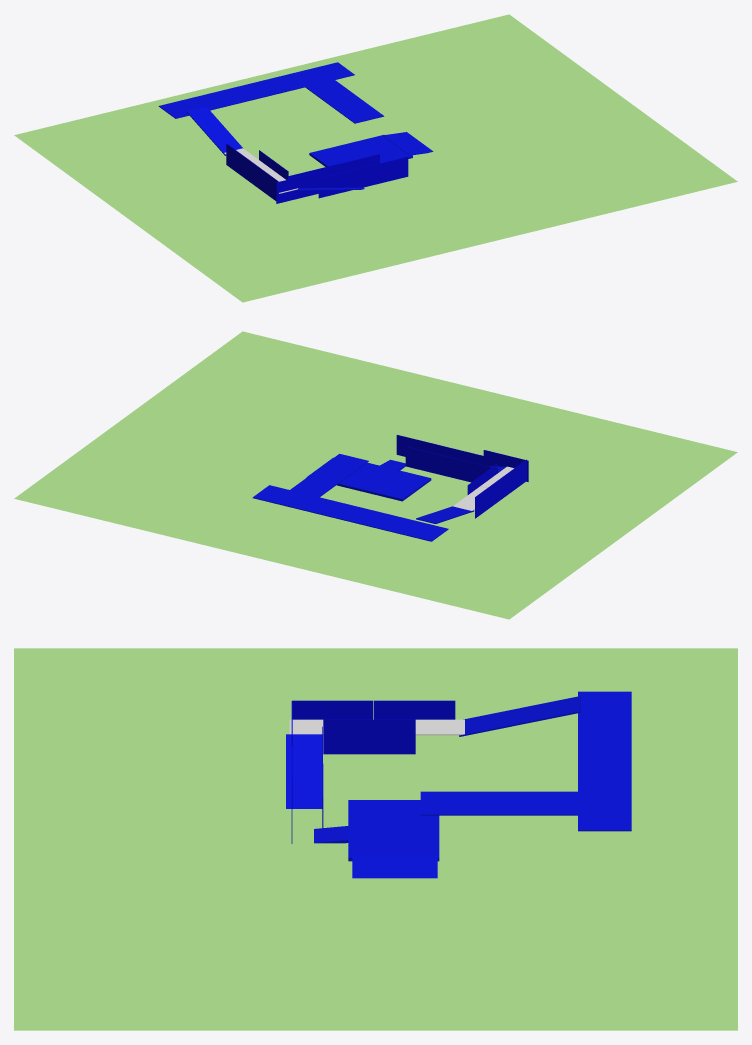
The model's file is zycie.gltf.
3 renders of one model, top to bottom at view 1: azimuth 30°, elevation 25°; view 2: azimuth 150°, elevation 25°; view 3: azimuth 270°, elevation 25°, orthographic. The views are drawn at different scales.
Parts seen in each view (by area): view 1: Plane.001, Cube, Cube.021, Cube.022, Cube.020, Cube.015, Cube.010, Cube.007, Cube.005, Cube.023, Cube.018, Cube.012; view 2: Plane.001, Cube, Cube.020, Cube.021, Cube.022, Cube.006, Cube.009, Cube.018, Cube.012, Cube.007, Cube.010, Cube.015; view 3: Plane.001, Cube, Cube.022, Cube.021, Cube.020, Cube.013, Cube.004, Cube.023, Cube.015, Cube.012, Cube.018, Cube.014.
Boxes of the visible parts, left/top/right/bottom form: Plane.001: left=14, top=14, right=737, bottom=302; Cube: left=309, top=135, right=412, bottom=166; Cube.021: left=248, top=62, right=354, bottom=96; Cube.022: left=304, top=78, right=384, bottom=123; Cube.020: left=158, top=84, right=265, bottom=118; Cube.015: left=187, top=107, right=243, bottom=155; Cube.010: left=276, top=171, right=321, bottom=203; Cube.007: left=363, top=156, right=408, bottom=187; Cube.005: left=318, top=167, right=363, bottom=198; Cube.023: left=382, top=132, right=433, bottom=155; Cube.018: left=226, top=143, right=252, bottom=183; Cube.012: left=252, top=162, right=278, bottom=200; Plane.001: left=14, top=331, right=737, bottom=619; Cube: left=337, top=462, right=431, bottom=501; Cube.020: left=341, top=507, right=448, bottom=541; Cube.021: left=252, top=485, right=358, bottom=519; Cube.022: left=288, top=453, right=368, bottom=497; Cube.006: left=405, top=446, right=450, bottom=476; Cube.009: left=448, top=456, right=497, bottom=482; Cube.018: left=475, top=478, right=501, bottom=518; Cube.012: left=501, top=459, right=526, bottom=499; Cube.007: left=396, top=435, right=441, bottom=456; Cube.010: left=483, top=450, right=528, bottom=481; Cube.015: left=416, top=506, right=473, bottom=523; Plane.001: left=14, top=648, right=737, bottom=1030; Cube: left=348, top=800, right=439, bottom=861; Cube.022: left=420, top=791, right=584, bottom=815; Cube.021: left=578, top=760, right=631, bottom=831; Cube.020: left=578, top=691, right=631, bottom=761; Cube.013: left=323, top=719, right=415, bottom=754; Cube.004: left=286, top=734, right=322, bottom=808; Cube.023: left=352, top=855, right=437, bottom=878; Cube.015: left=459, top=696, right=580, bottom=736; Cube.012: left=292, top=700, right=373, bottom=719; Cube.018: left=374, top=700, right=455, bottom=719; Cube.014: left=415, top=719, right=464, bottom=735.
Bounding box in the file's own units: 178 × 10.9 × 142.
